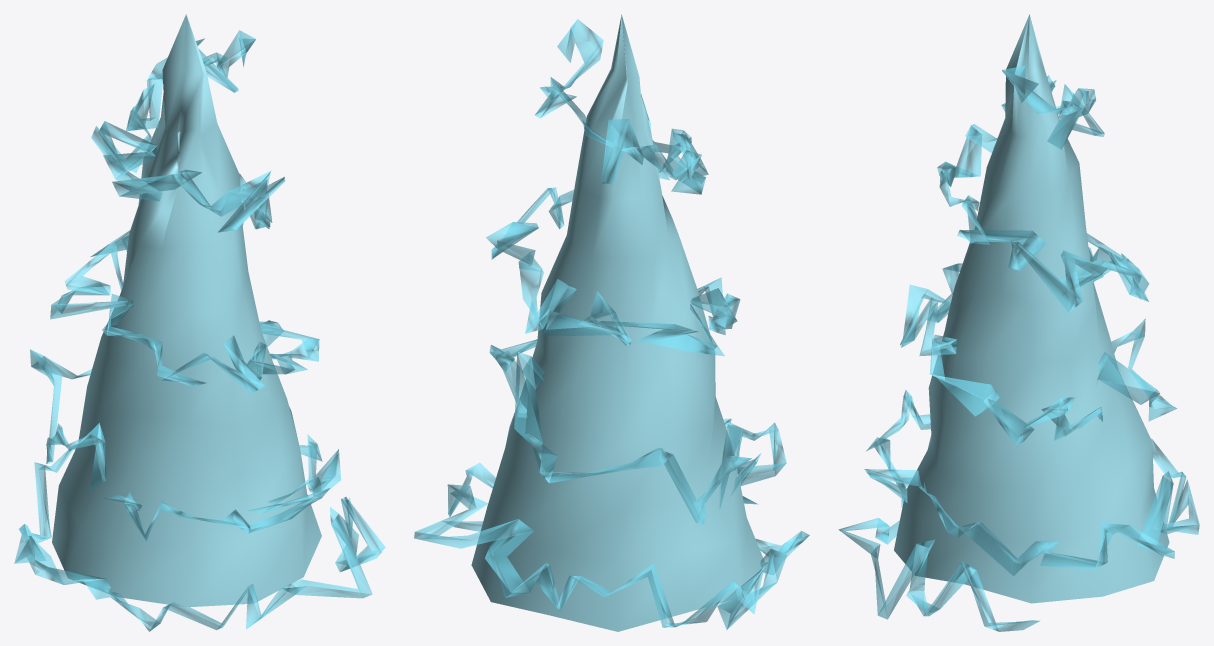
Rendered from Beam7.FBX.
3 views of the same model, side by side, from view 1: azimuth 30°, elevation 25°; view 2: azimuth 150°, elevation 25°; view 3: azimuth 270°, elevation 25° (orthographic). The views are drawn at different scales.
Visible parts, largest first — view 1: Cone001, Helix001; view 2: Cone001, Helix001; view 3: Cone001, Helix001.
Boxes of the visible parts, <box> form: Cone001: <box>52,14,321,607</box>; Helix001: <box>14,30,385,631</box>; Cone001: <box>471,14,764,631</box>; Helix001: <box>414,19,809,629</box>; Cone001: <box>894,14,1169,603</box>; Helix001: <box>838,66,1199,631</box>.
Bounding box in the file's own units: 523 × 873 × 516.
